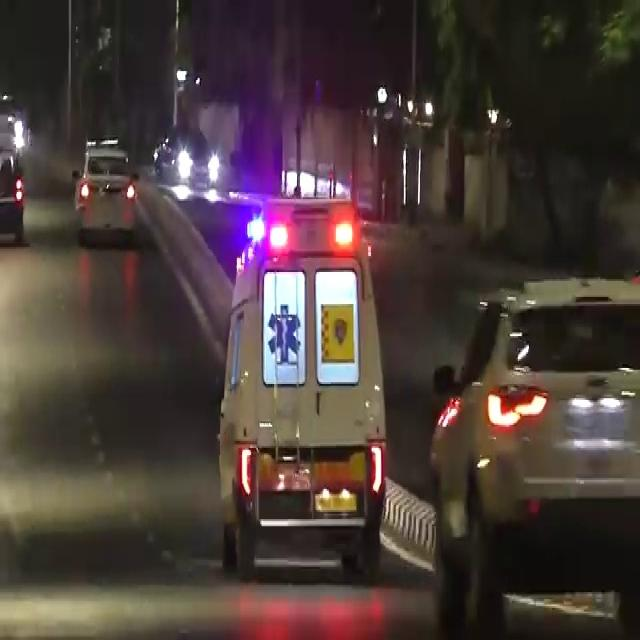ambulance: (216, 188, 386, 564)
